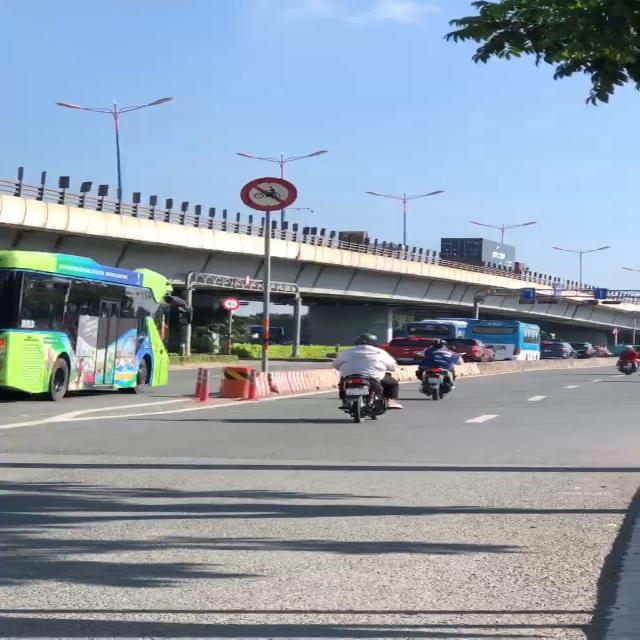Bien bao cam xe may: (232, 173, 306, 214)
